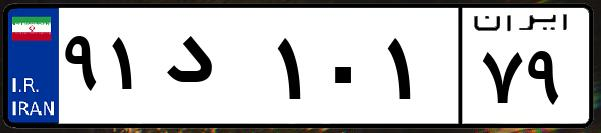0: (330, 28, 385, 110)
1: (270, 28, 330, 110), (385, 28, 445, 110), (110, 28, 158, 98)
7: (475, 38, 525, 113)
9: (57, 26, 110, 100), (525, 38, 570, 115)
د: (158, 20, 270, 120)
